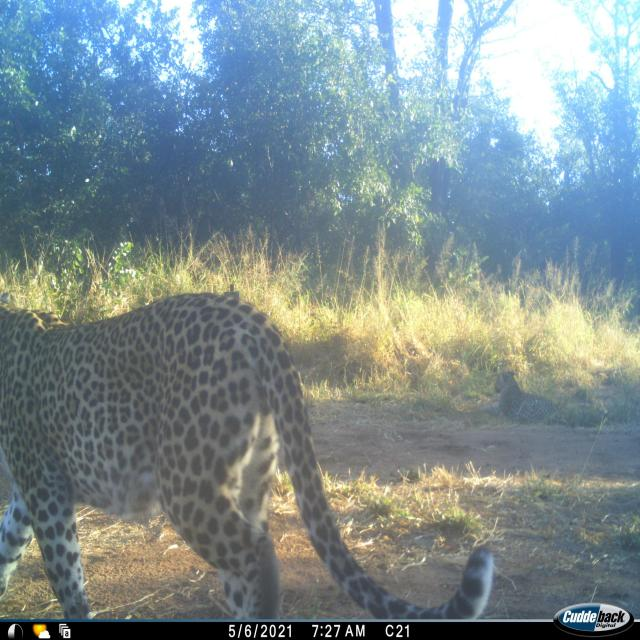Leopard: (0, 246, 458, 640)
